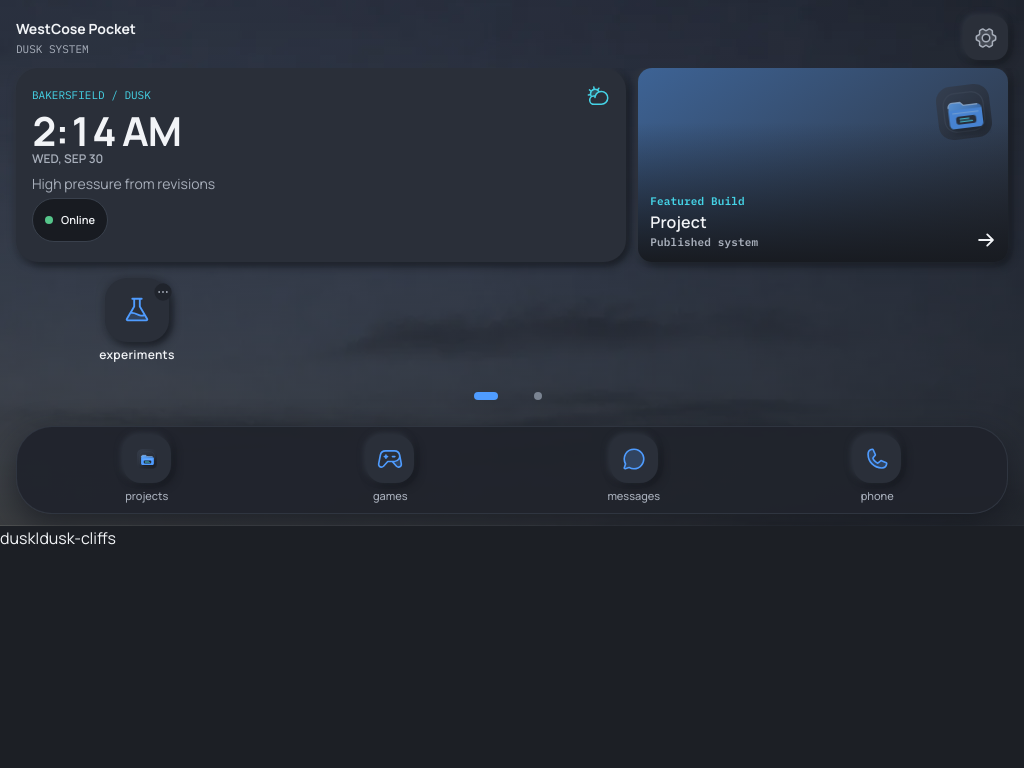
Pocket customization › offers Theme, Wallpaper, and Appearance Settings without a desktop menu
Press the mouse on the element named "Home Page One" at (512, 217), box [0,68,1023,366]
Wait 600 ms
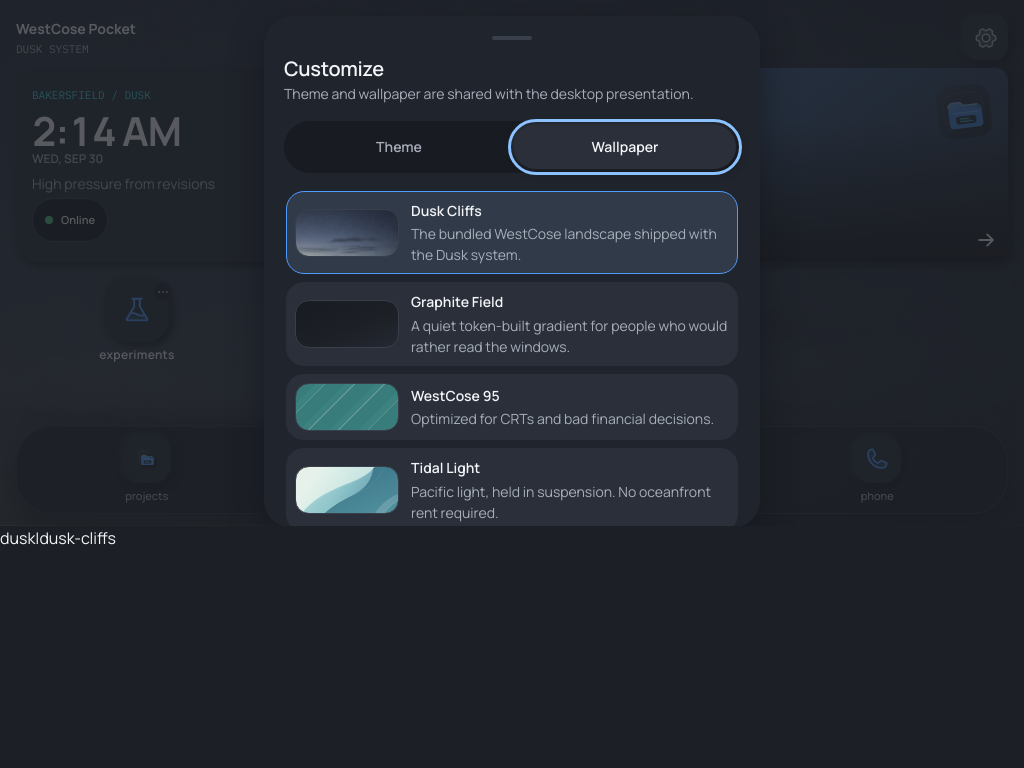
Result: the tab "Theme" is shown at [288,125,510,169]
Result: the tab "Wallpaper" is shown at [514,125,736,169]
